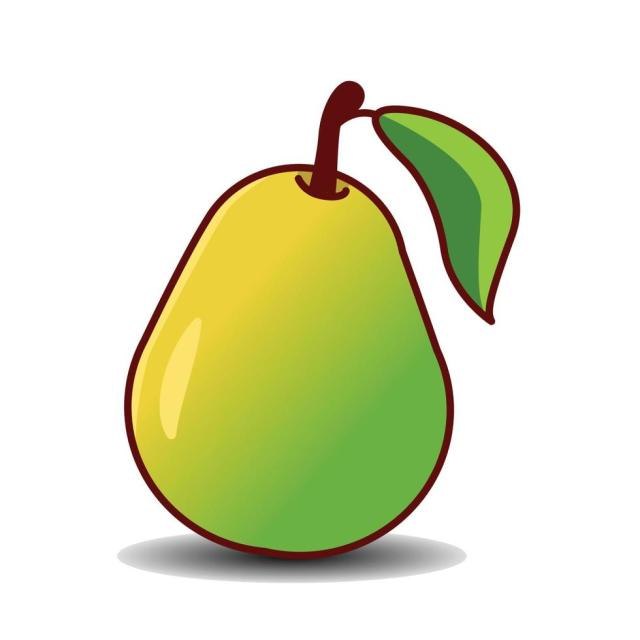pera: (105, 73, 538, 586)
